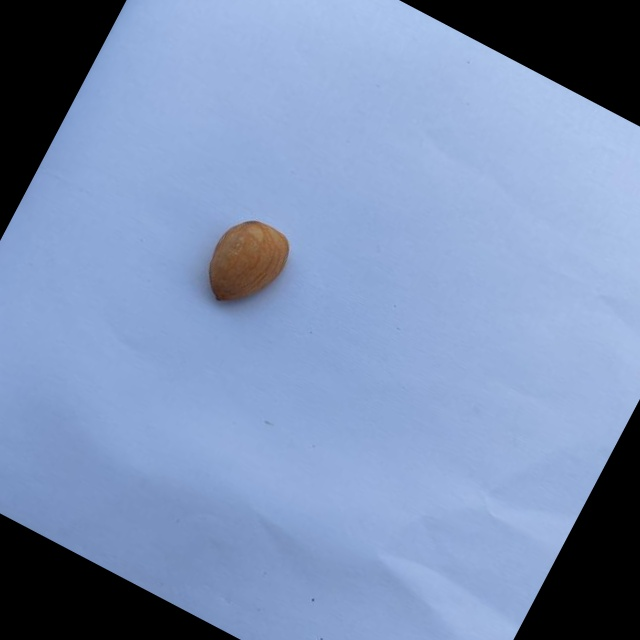grade2: (190, 204, 305, 326)
